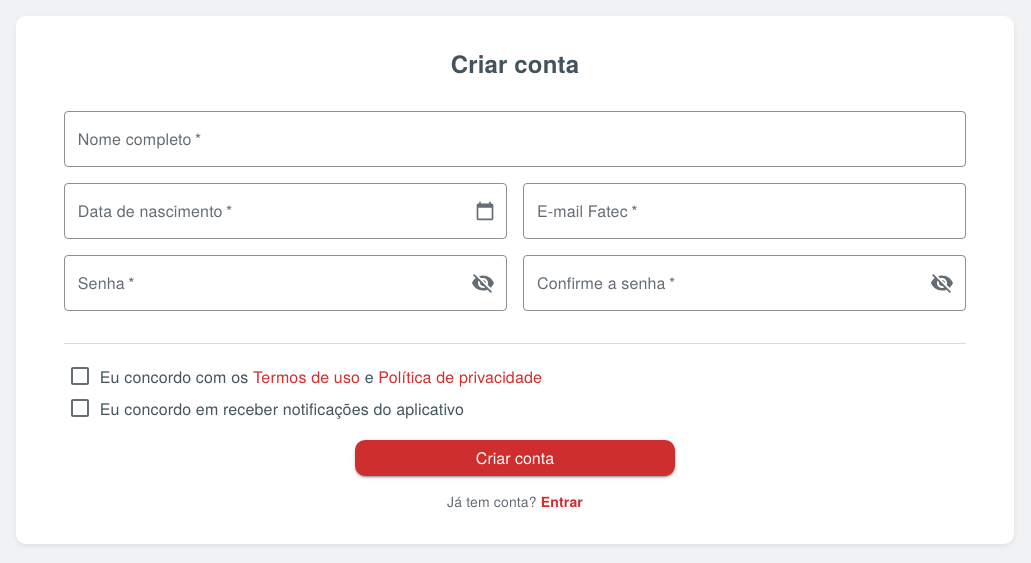
Test: Signup › should create the account and ask for the email confirmation, without a session
Type "Maria Silva" into the field labelled "Nome completo *" at coordinates (515, 139), box [64,111,966,167]
Type "maria.silva@aluno.cps.sp.gov.br" into the field labelled "E-mail Fatec *" at coordinates (745, 211), box [523,183,966,239]
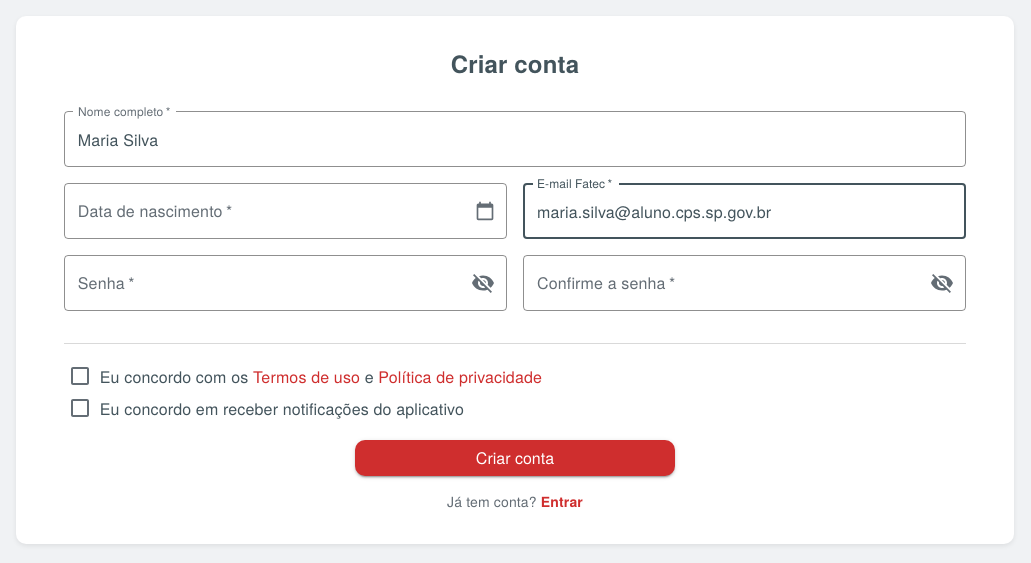
Type "22051999" into the field labelled "Data de nascimento *" at coordinates (261, 211), box [64,183,459,239]
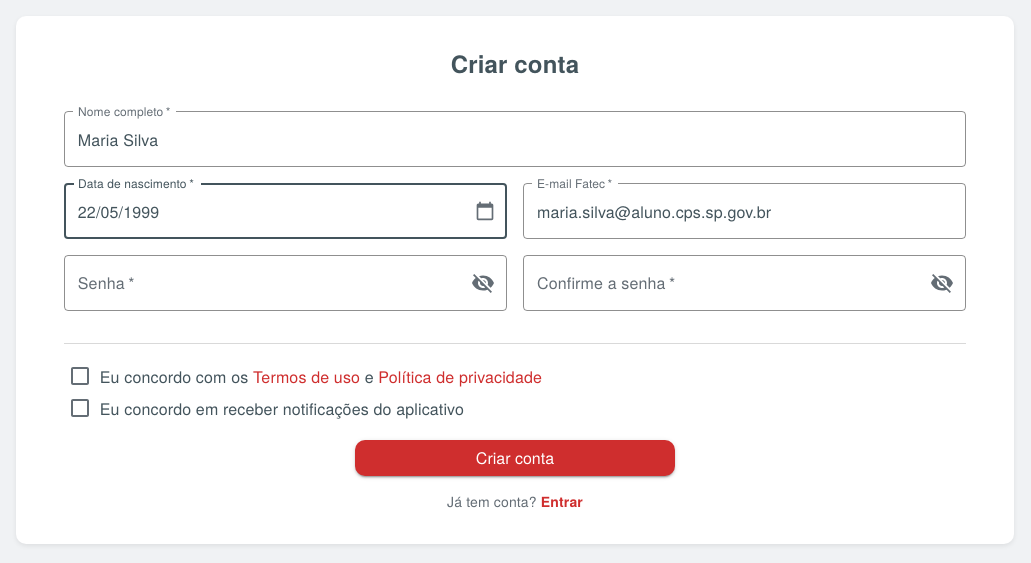
Type "segredo123" into the password field labelled "Senha *" at coordinates (259, 283), box [64,255,455,311]
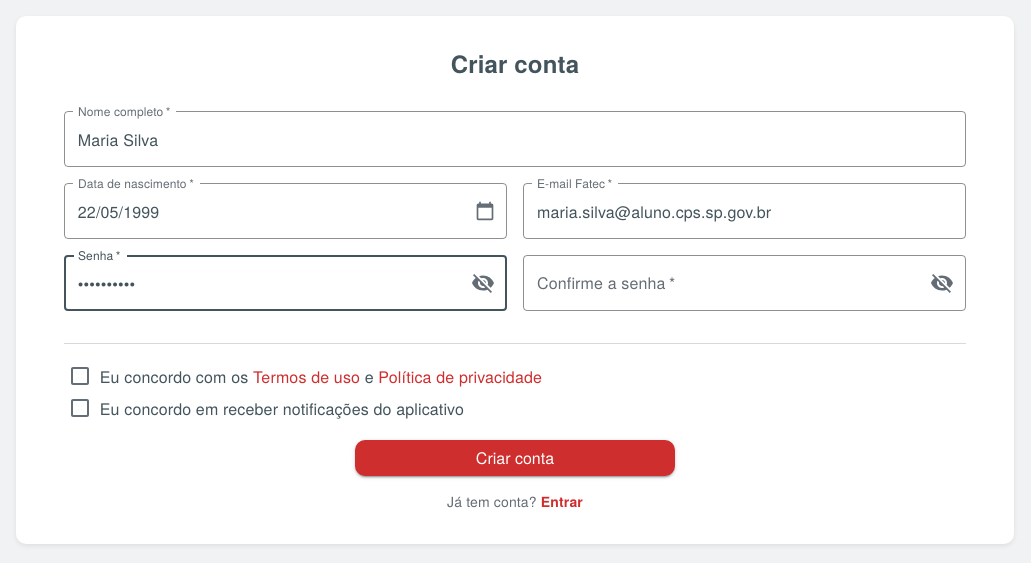
Type "segredo123" into the password field labelled "Confirme a senha *" at coordinates (719, 283), box [523,255,914,311]
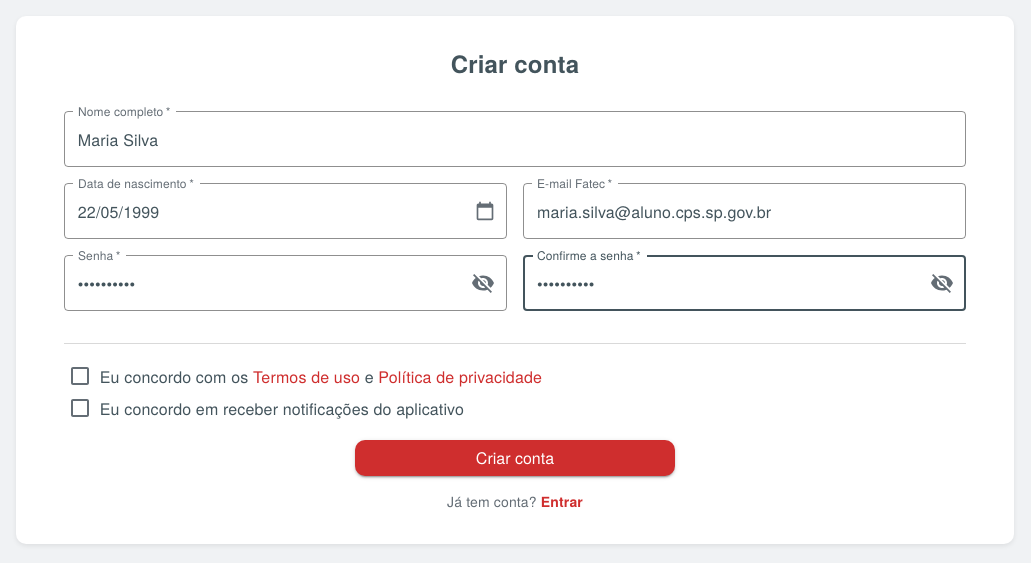
Click the checkbox named "Termos de uso" at coordinates (174, 376), box [100,365,253,388]
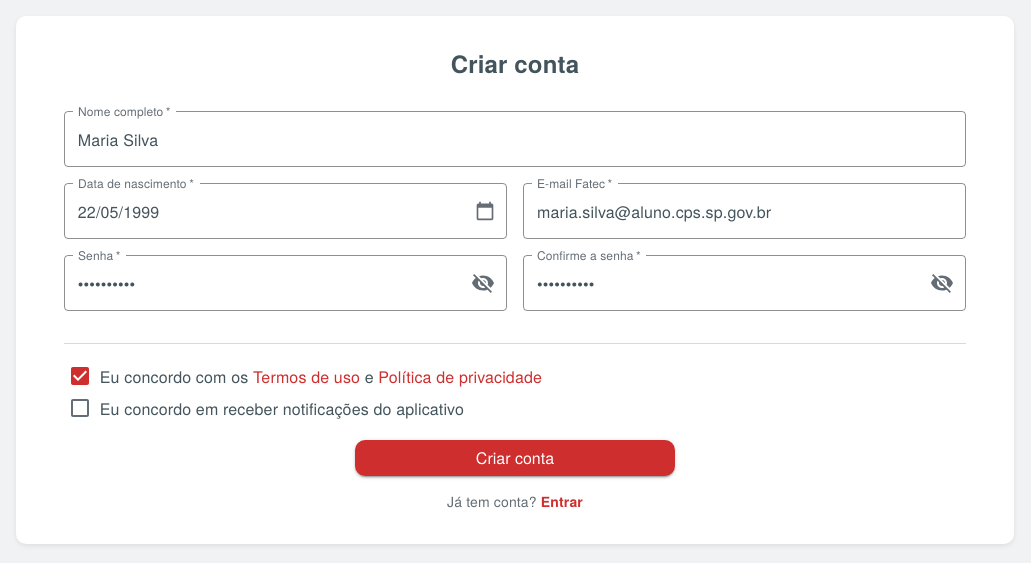
Click the button "Criar conta" at coordinates (515, 458), box [355,440,675,476]
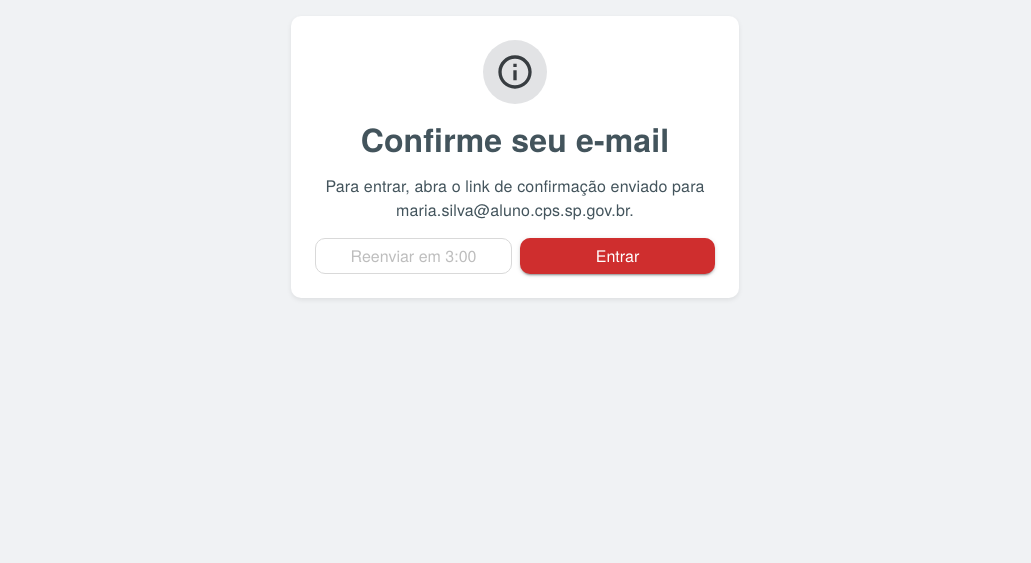
expect the heading "Confirme seu e-mail" is shown: met, box [361,120,669,158]
